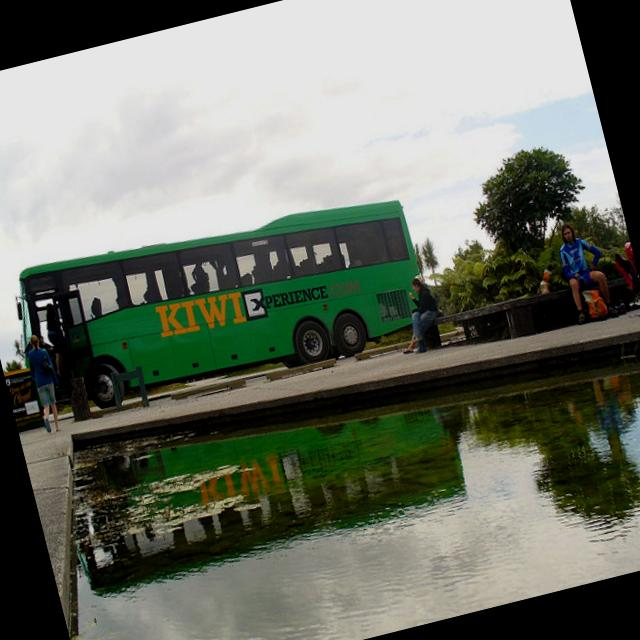Vehicle: (2, 176, 438, 432)
